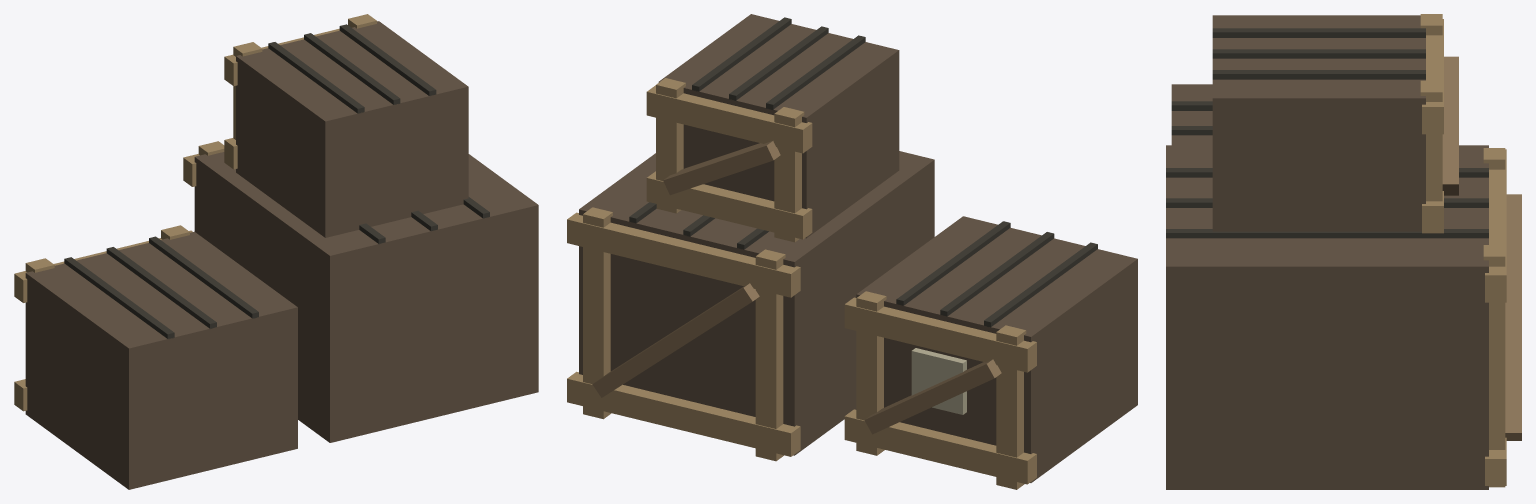
The model's file is SW_Cargo_SaltCrates.fbx.
The picture shows the model from 3 angles, left to right: view 1: azimuth 30°, elevation 25°; view 2: azimuth 150°, elevation 25°; view 3: azimuth 270°, elevation 25°; orthographic projection. The views are drawn at different scales.
Visible parts, largest first — view 1: SW_Cargo_SaltCrates; view 2: SW_Cargo_SaltCrates; view 3: SW_Cargo_SaltCrates.
Boxes of the visible parts, x1,y1,x2,y2 form: SW_Cargo_SaltCrates: [14, 14, 538, 489]; SW_Cargo_SaltCrates: [567, 14, 1137, 489]; SW_Cargo_SaltCrates: [1166, 14, 1521, 489].
Size of the model in its own units: 2.09 by 1.5 by 1.3.
